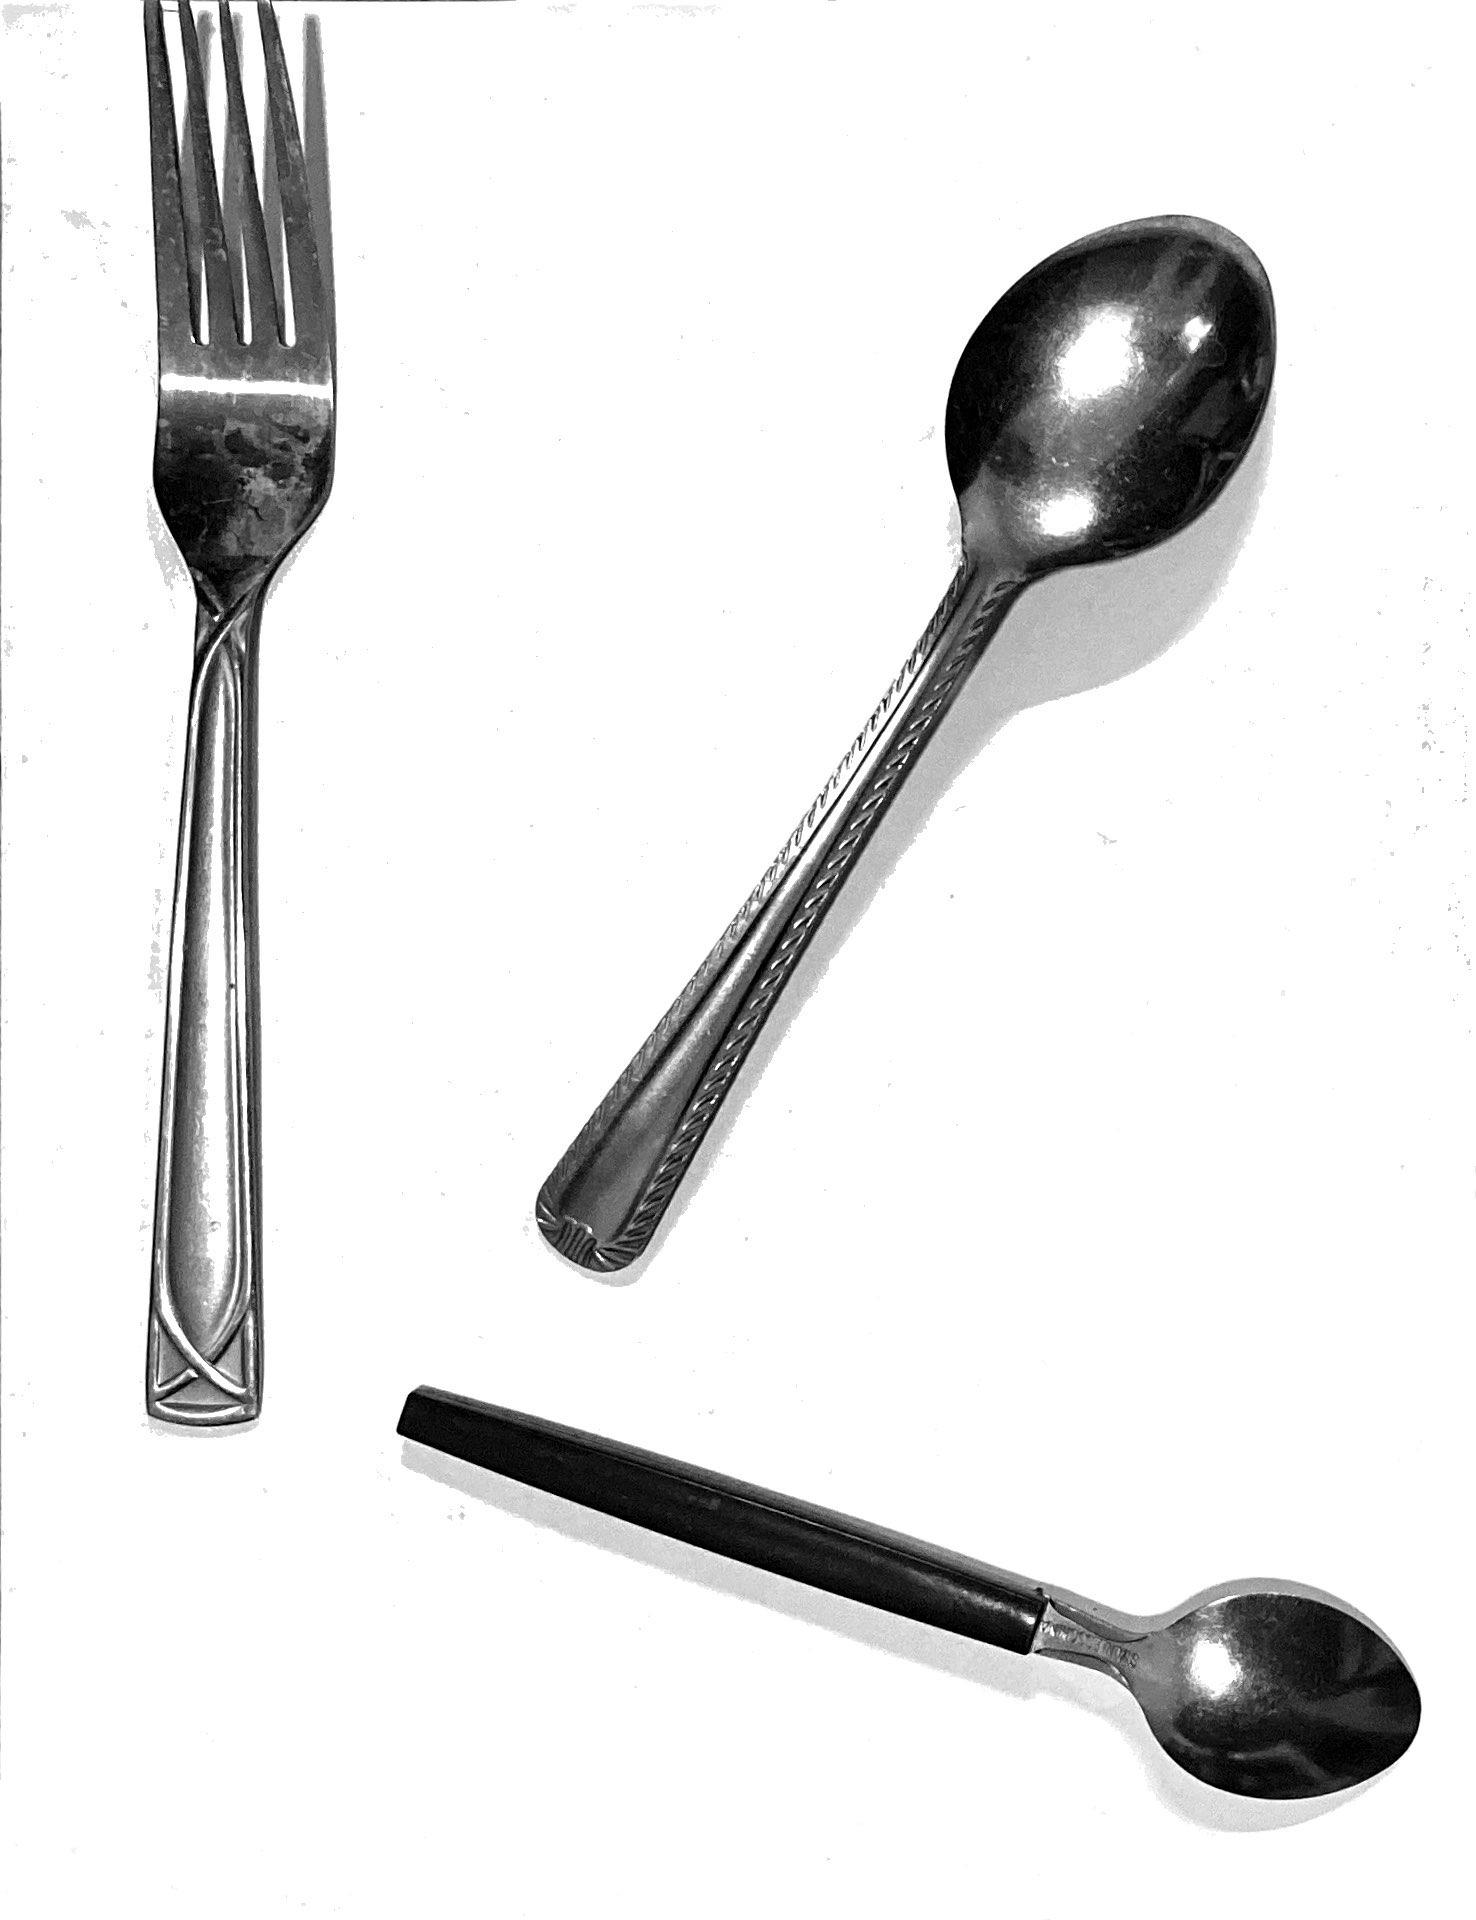Fork: (47, 2, 361, 1429)
Spoon: (513, 143, 1386, 1274), (391, 1278, 1457, 1903)
